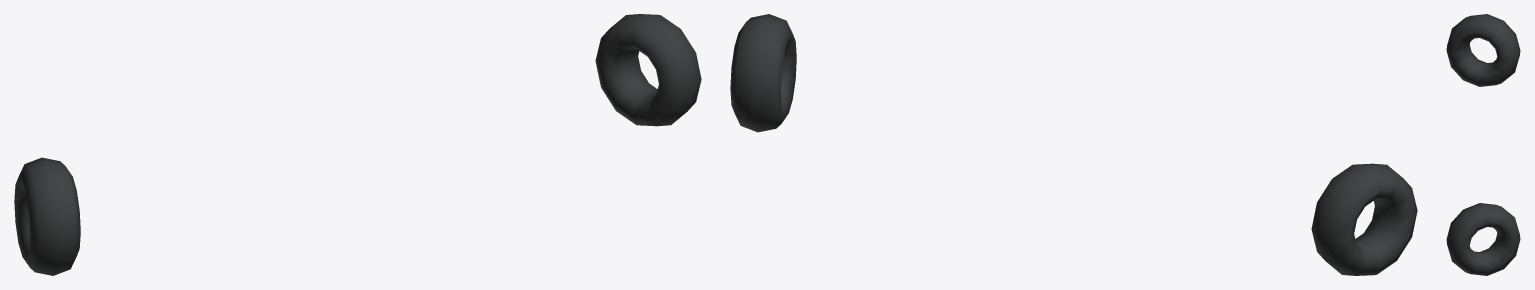
The model's file is Earring_5.fbx.
3 renders of one model, left to right at view 1: azimuth 30°, elevation 25°; view 2: azimuth 150°, elevation 25°; view 3: azimuth 270°, elevation 25°, orthographic. The views are drawn at different scales.
Parts seen in each view (by area): view 1: Earring_5; view 2: Earring_5; view 3: Earring_5.
Part boxes in pixels (<box>): Earring_5: <box>14,14,701,275</box>; Earring_5: <box>730,14,1417,275</box>; Earring_5: <box>1446,14,1520,275</box>.
Bounding box in the file's own units: 55.18 × 8.56 × 8.24.
